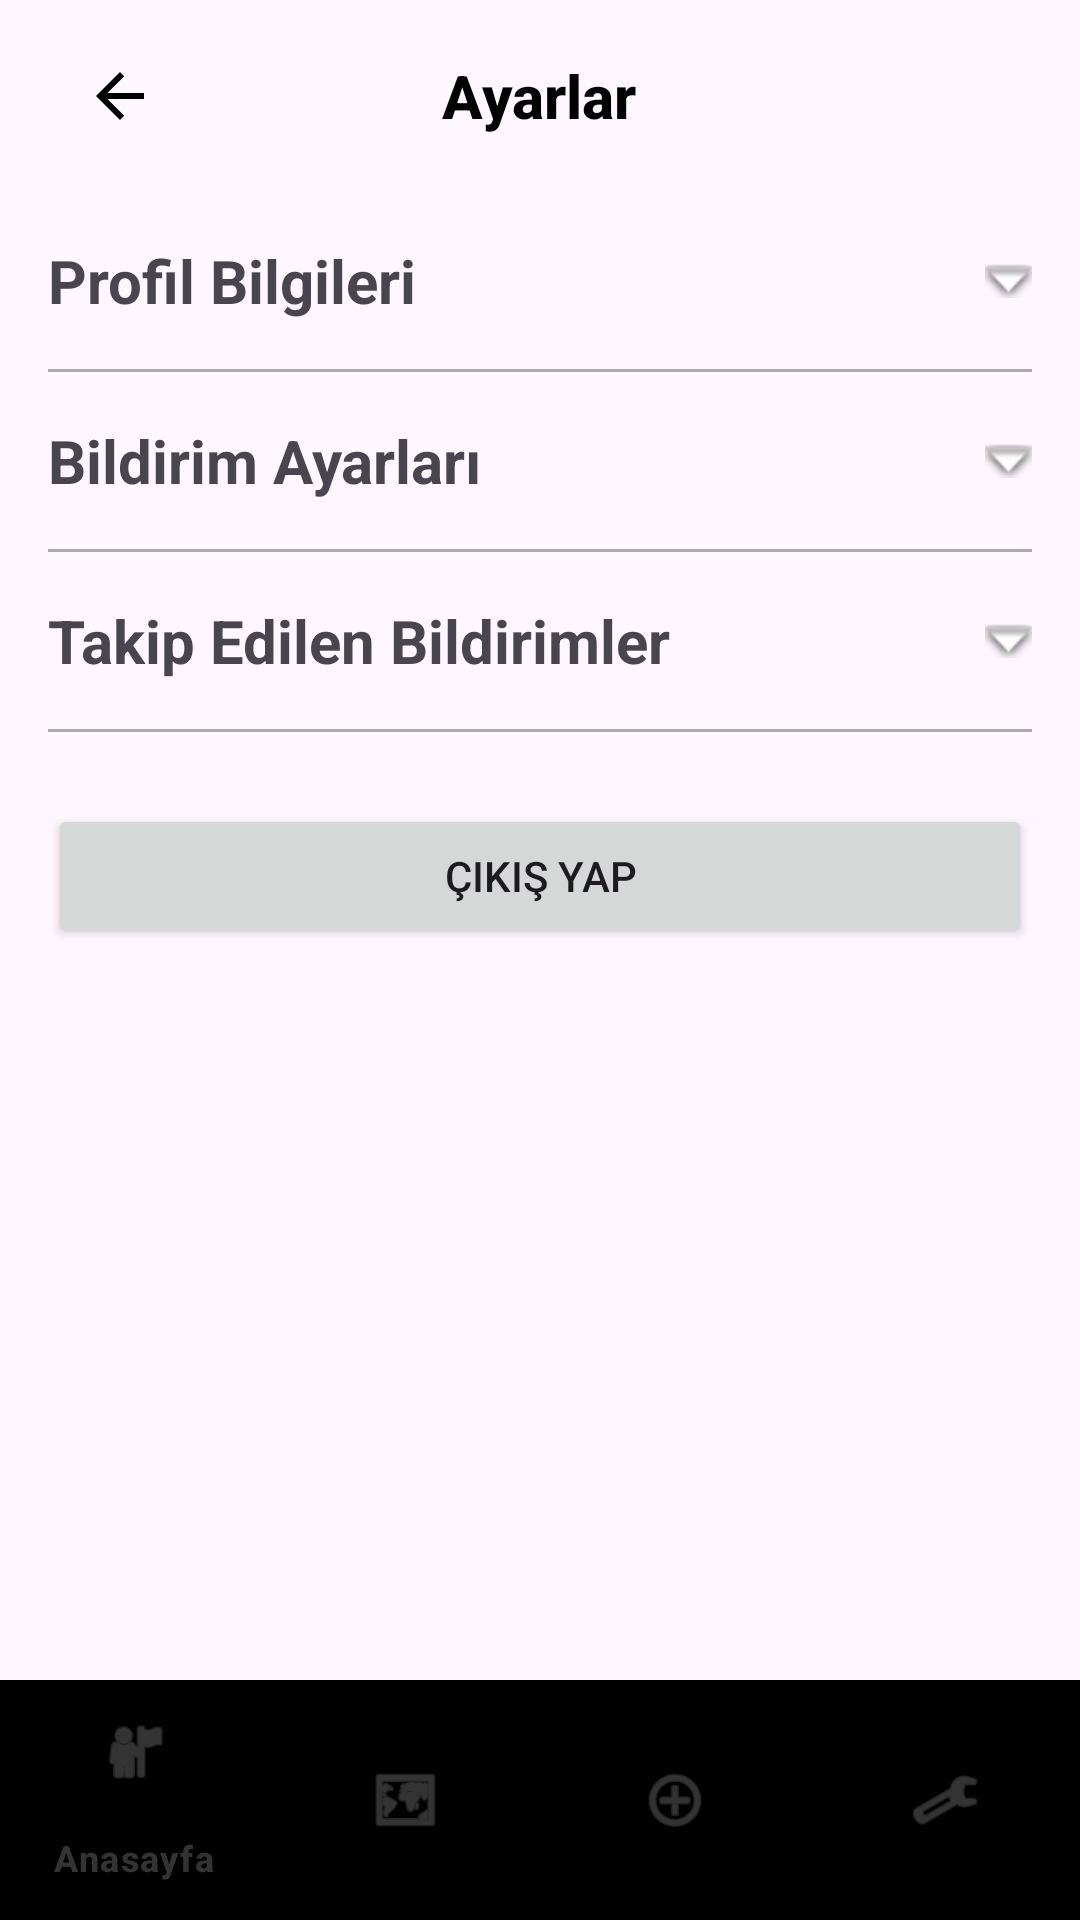

Icon click points for this 1080 x 1920 phone screenshot, format (x=x, y=y):
Back: (x=120, y=96)
